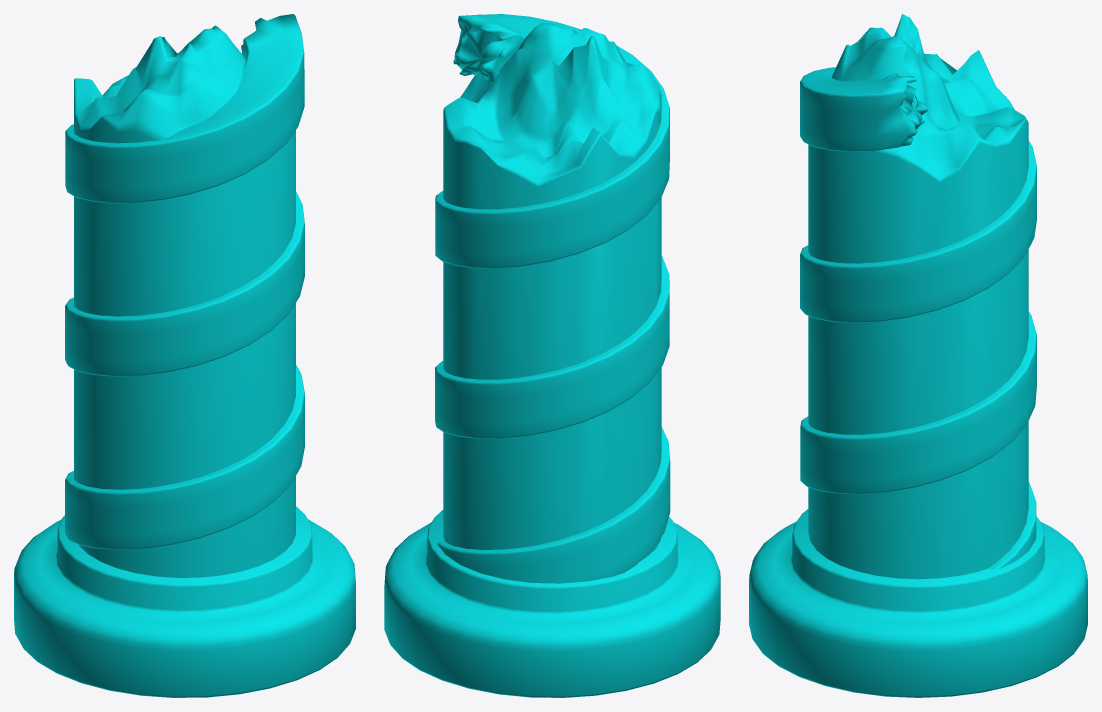
File: Pillars Broken.fbx
3 views of the same model, side by side, from view 1: azimuth 30°, elevation 25°; view 2: azimuth 150°, elevation 25°; view 3: azimuth 270°, elevation 25° (orthographic).
Visible parts, largest first — view 1: WoodModPillBroken; view 2: WoodModPillBroken; view 3: WoodModPillBroken.
Part boxes in pixels (<box>): WoodModPillBroken: <box>14,14,355,697</box>; WoodModPillBroken: <box>384,14,720,697</box>; WoodModPillBroken: <box>749,14,1087,697</box>.
Size of the model in its own units: 192 by 192 by 373.
